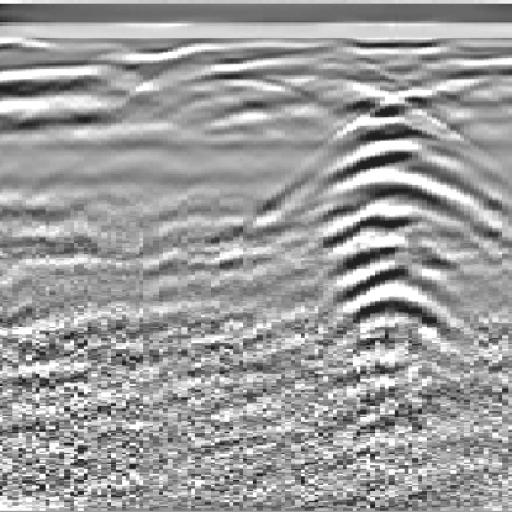metalic: (220, 58, 512, 384)
